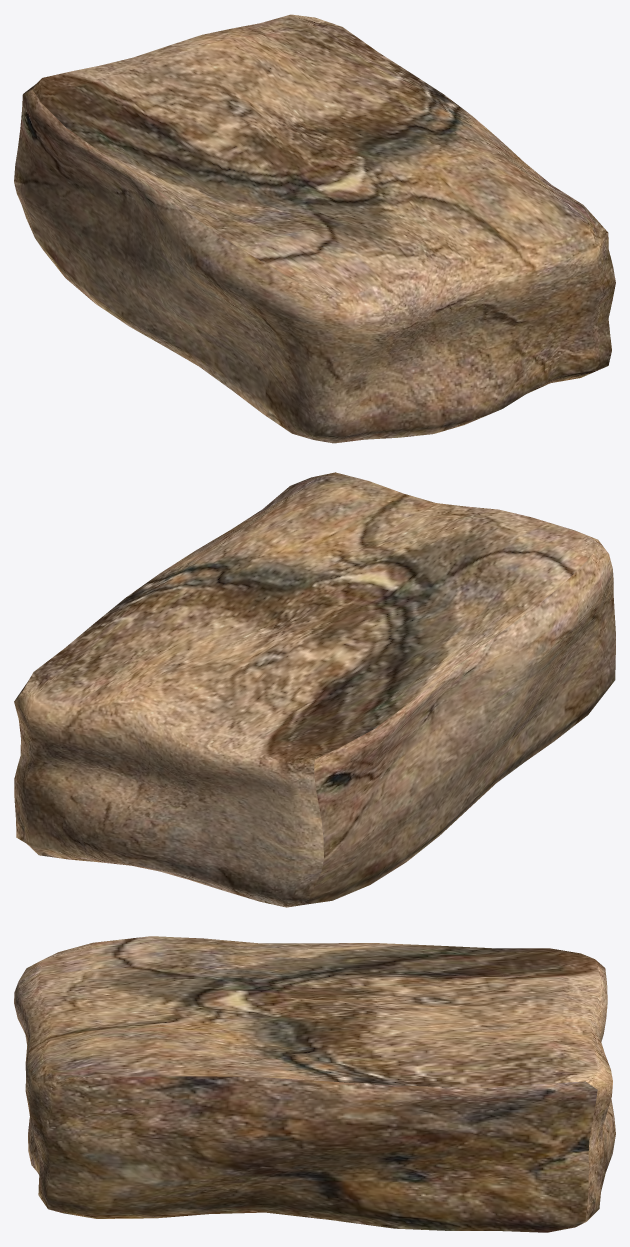
File: Boulder.fbx
The picture shows the model from 3 angles, top to bottom: view 1: azimuth 30°, elevation 25°; view 2: azimuth 150°, elevation 25°; view 3: azimuth 270°, elevation 25°; orthographic projection. The views are drawn at different scales.
Parts seen in each view (by area): view 1: pCube1; view 2: pCube1; view 3: pCube1.
Boxes of the visible parts, <box> form: pCube1: <box>14,14,615,443</box>; pCube1: <box>14,472,615,907</box>; pCube1: <box>14,936,615,1232</box>.
Size of the model in its own units: 3.51 by 1.83 by 5.67.
1 material, 1 textured.
